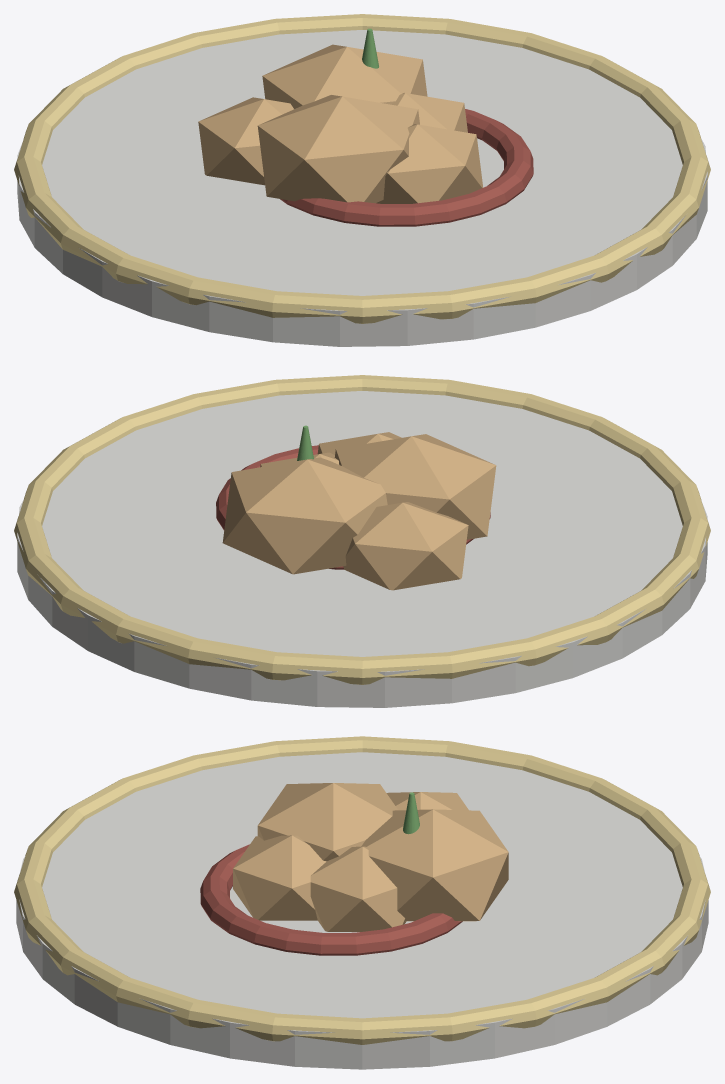
The model's file is dish_meat.glb.
3 views of the same model, one above another, from view 1: azimuth 30°, elevation 25°; view 2: azimuth 150°, elevation 25°; view 3: azimuth 270°, elevation 25° (orthographic).
Parts seen in each view (by area): view 1: plate_base, plate_rim, Icosphere.003, sauce_swirl, Icosphere.001, Icosphere.004, Icosphere.002, Icosphere; view 2: plate_base, plate_rim, Icosphere.001, Icosphere.003, Icosphere.002, sauce_swirl, Icosphere.004; view 3: plate_base, plate_rim, Icosphere.001, sauce_swirl, Icosphere.003, Icosphere.004, Icosphere, Icosphere.002.
Part boxes in pixels (<box>): plate_base: <box>17,30,707,346</box>; plate_rim: <box>14,14,710,323</box>; Icosphere.003: <box>257,95,419,203</box>; sauce_swirl: <box>280,109,533,226</box>; Icosphere.001: <box>262,44,427,108</box>; Icosphere.004: <box>376,124,482,203</box>; Icosphere.002: <box>198,97,293,185</box>; Icosphere: <box>391,93,467,132</box>; plate_base: <box>17,391,707,707</box>; plate_rim: <box>14,375,710,684</box>; Icosphere.001: <box>222,457,387,574</box>; Icosphere.003: <box>334,434,496,539</box>; Icosphere.002: <box>343,502,468,590</box>; sauce_swirl: <box>216,445,490,569</box>; Icosphere.004: <box>317,432,401,454</box>; plate_base: <box>16,752,708,1069</box>; plate_rim: <box>14,736,710,1044</box>; Icosphere.001: <box>361,809,508,921</box>; sauce_swirl: <box>200,844,462,955</box>; Icosphere.003: <box>257,783,397,861</box>; Icosphere.004: <box>233,835,326,920</box>; Icosphere: <box>310,846,406,931</box>; Icosphere.002: <box>386,792,468,810</box>.
Size of the model in its own units: 0.282 by 0.065 by 0.282.
